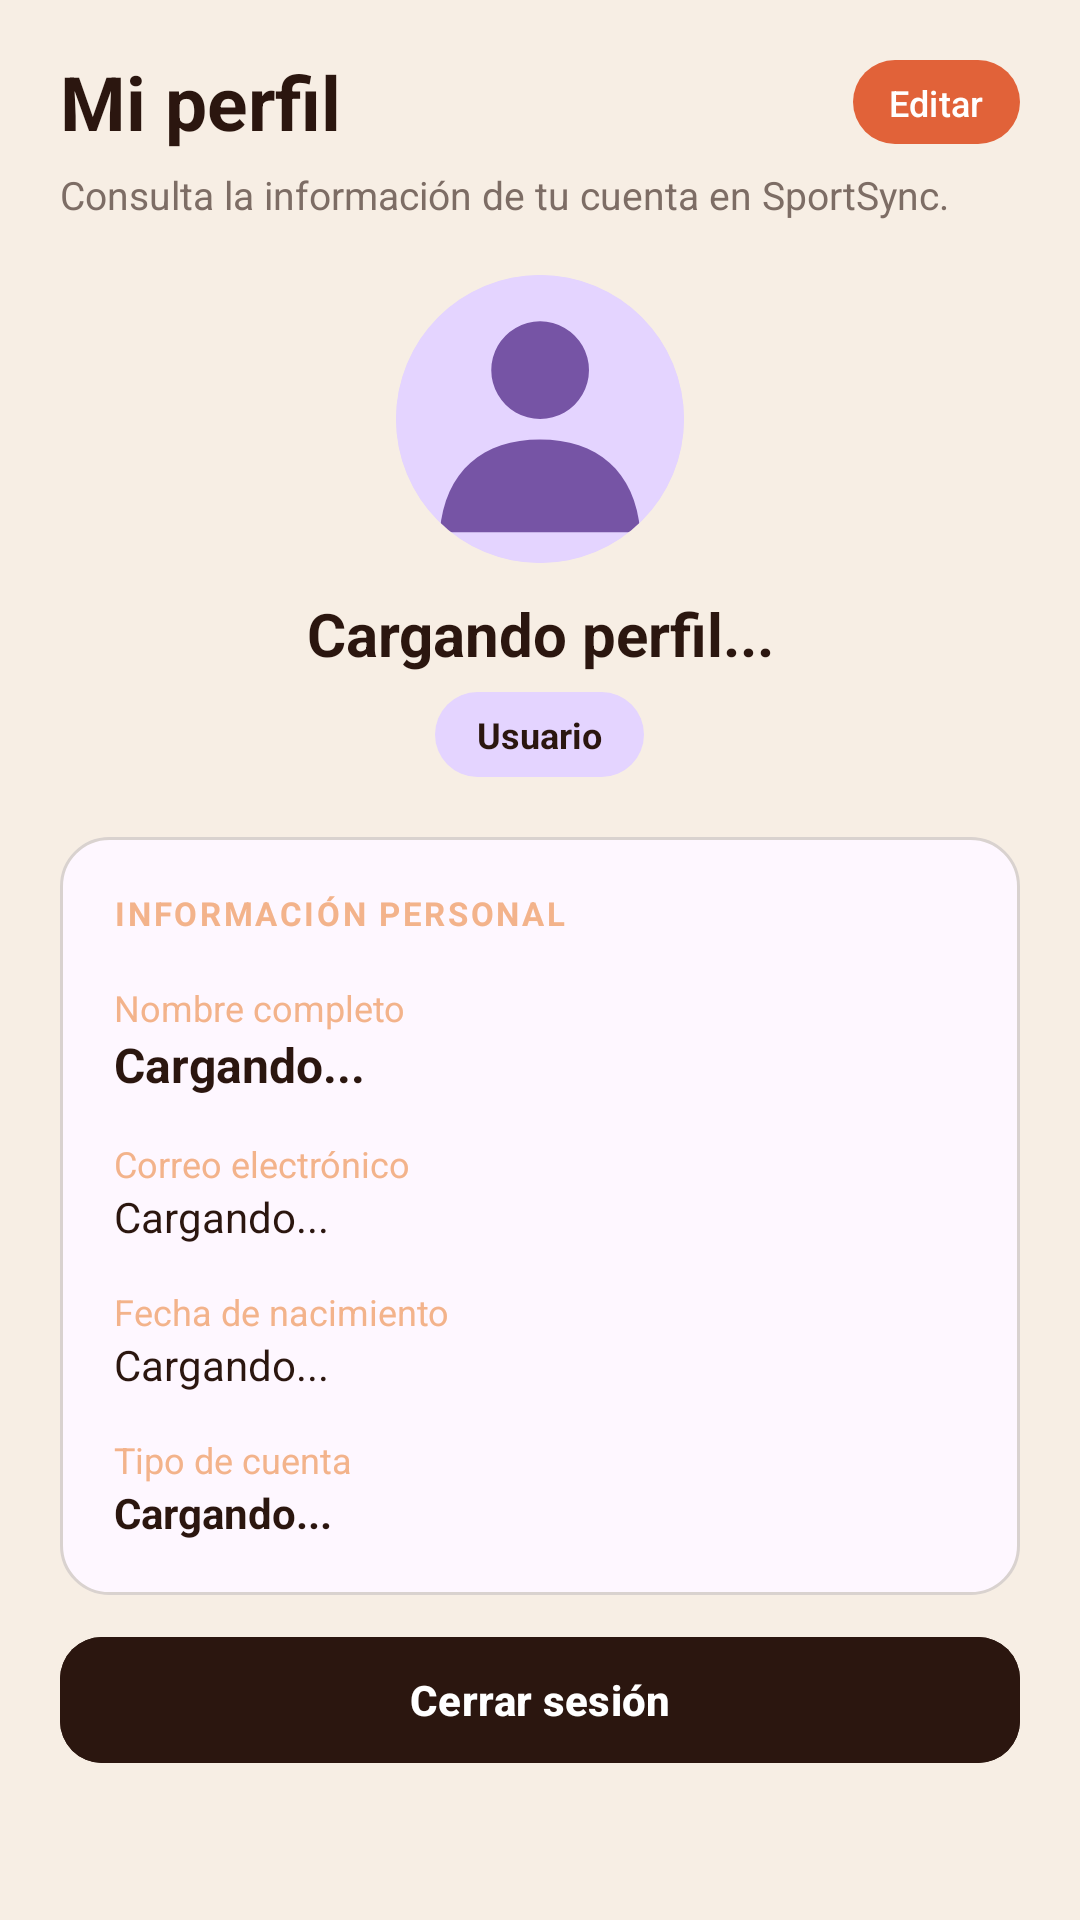

Point at icon controls on the screen. Image size 1080px x 1920px, points as (x,y).
Foto de perfil: (540,419)
